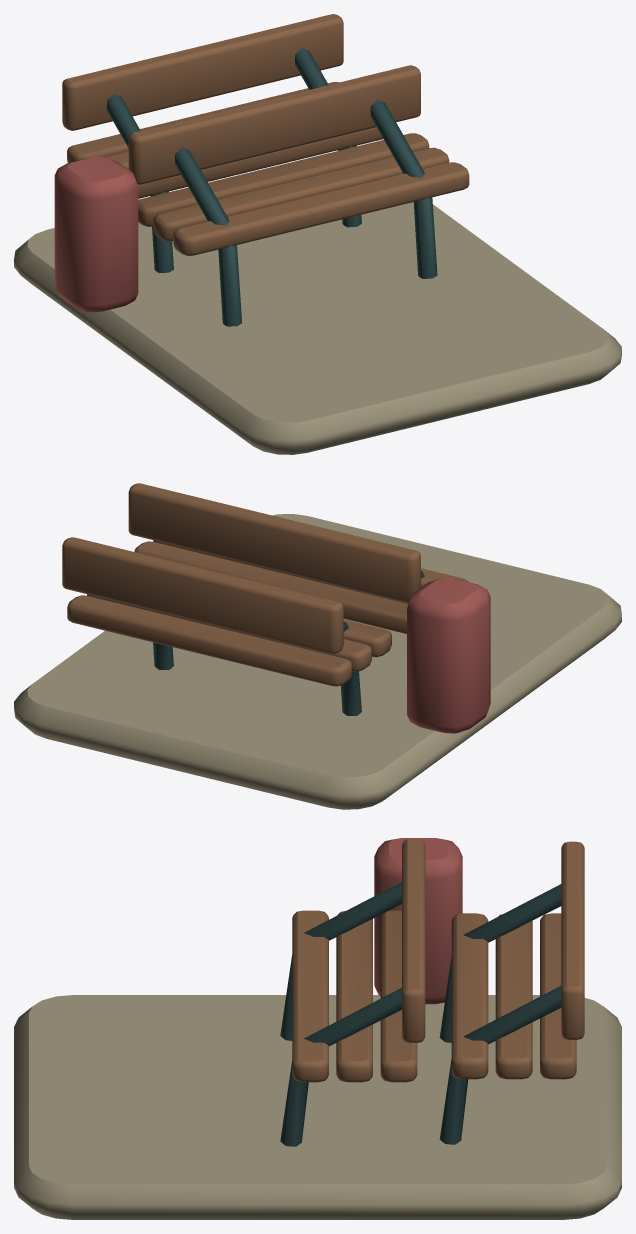
File: route66_motel_1.glb
3 renders of one model, top to bottom at view 1: azimuth 30°, elevation 25°; view 2: azimuth 150°, elevation 25°; view 3: azimuth 270°, elevation 25°, orthographic. The views are drawn at different scales.
Visible parts, largest first — view 1: Route66Motel1; view 2: Route66Motel1; view 3: Route66Motel1.
Boxes of the visible parts, bbox=[...] form: Route66Motel1: bbox=[14, 14, 621, 454]; Route66Motel1: bbox=[14, 483, 621, 809]; Route66Motel1: bbox=[14, 838, 621, 1219].
Size of the model in its own units: 2.06 by 0.95 by 2.48.
